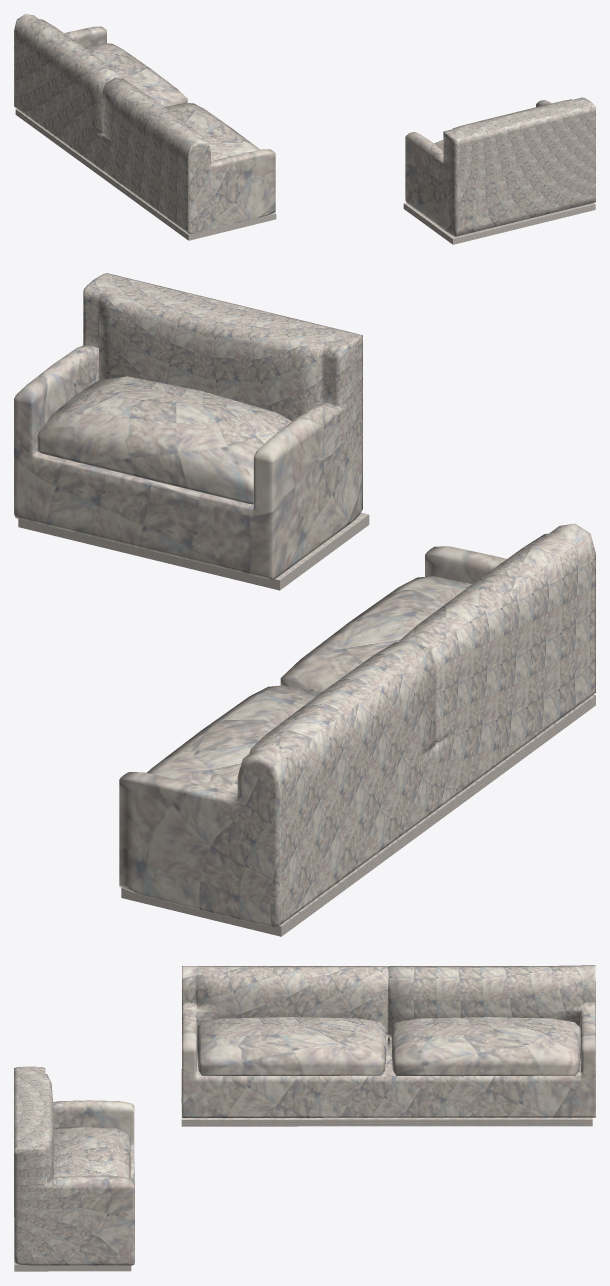
The model's file is sillones.dae.
The picture shows the model from 3 angles, top to bottom: view 1: azimuth 30°, elevation 25°; view 2: azimuth 150°, elevation 25°; view 3: azimuth 270°, elevation 25°; orthographic projection. The views are drawn at different scales.
Visible parts, largest first — view 1: sill[on grande, sillon chico; view 2: sill[on grande, sillon chico; view 3: sill[on grande, sillon chico.
Boxes of the visible parts, bbox=[...] form: sill[on grande: bbox=[14, 14, 276, 240]; sillon chico: bbox=[403, 97, 595, 244]; sill[on grande: bbox=[119, 523, 595, 936]; sillon chico: bbox=[14, 273, 369, 590]; sill[on grande: bbox=[181, 965, 595, 1126]; sillon chico: bbox=[14, 1066, 134, 1271].
Size of the model in its own units: 272 by 339 by 79.73.
1 material, 1 textured.
